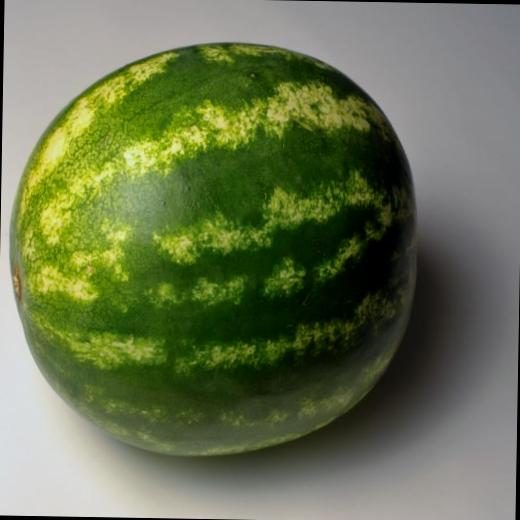Cherry: (6, 36, 422, 458)
